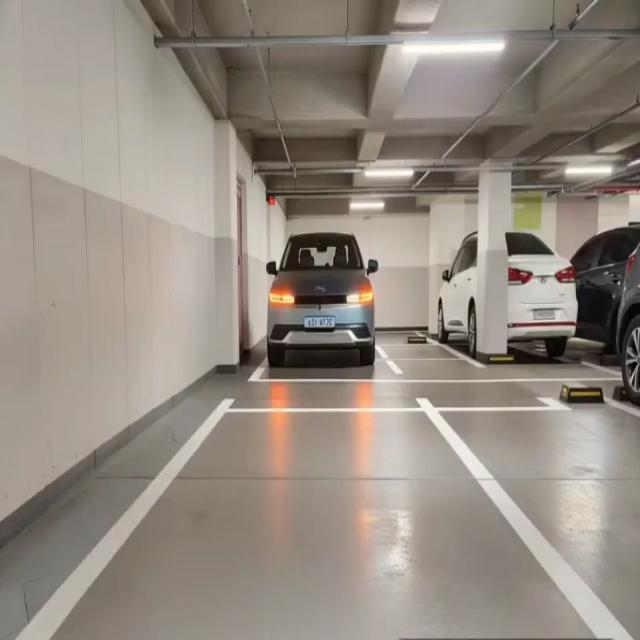car: (304, 317, 335, 330)
